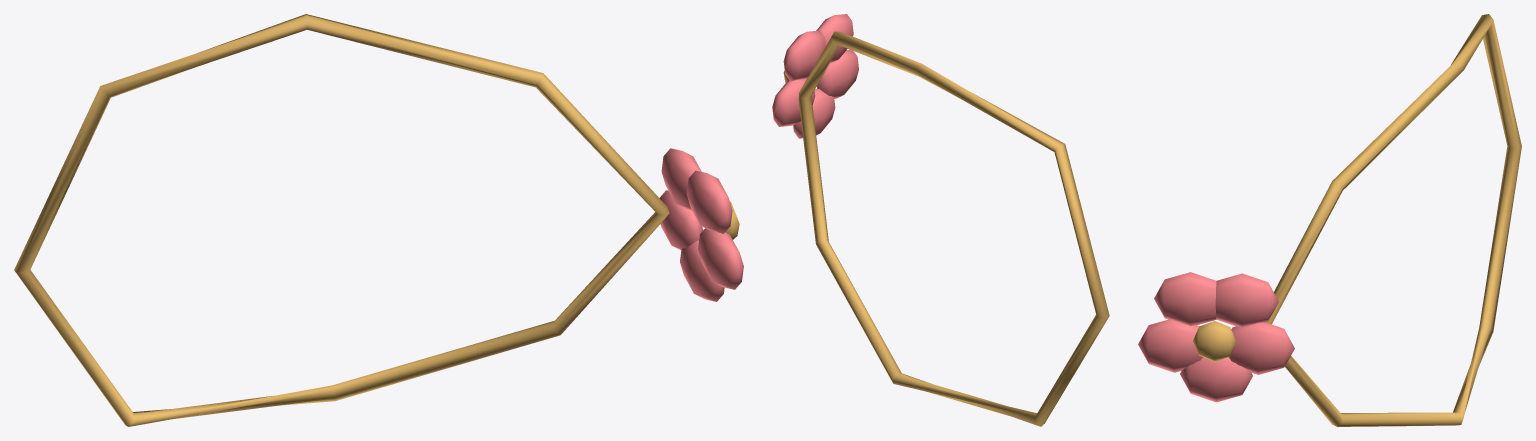
File: bloom.glb
3 renders of one model, left to right at view 1: azimuth 30°, elevation 25°; view 2: azimuth 150°, elevation 25°; view 3: azimuth 270°, elevation 25°, orthographic. The views are drawn at different scales.
Visible parts, largest first — view 1: SHOP_bloom_optimized; view 2: SHOP_bloom_optimized; view 3: SHOP_bloom_optimized.
Part boxes in pixels (x1,y1,x2,y2): SHOP_bloom_optimized: (14, 14, 743, 426); SHOP_bloom_optimized: (772, 14, 1109, 426); SHOP_bloom_optimized: (1138, 14, 1521, 426).
Bounding box in the file's own units: 0.1556 × 0.1055 × 0.1044.
